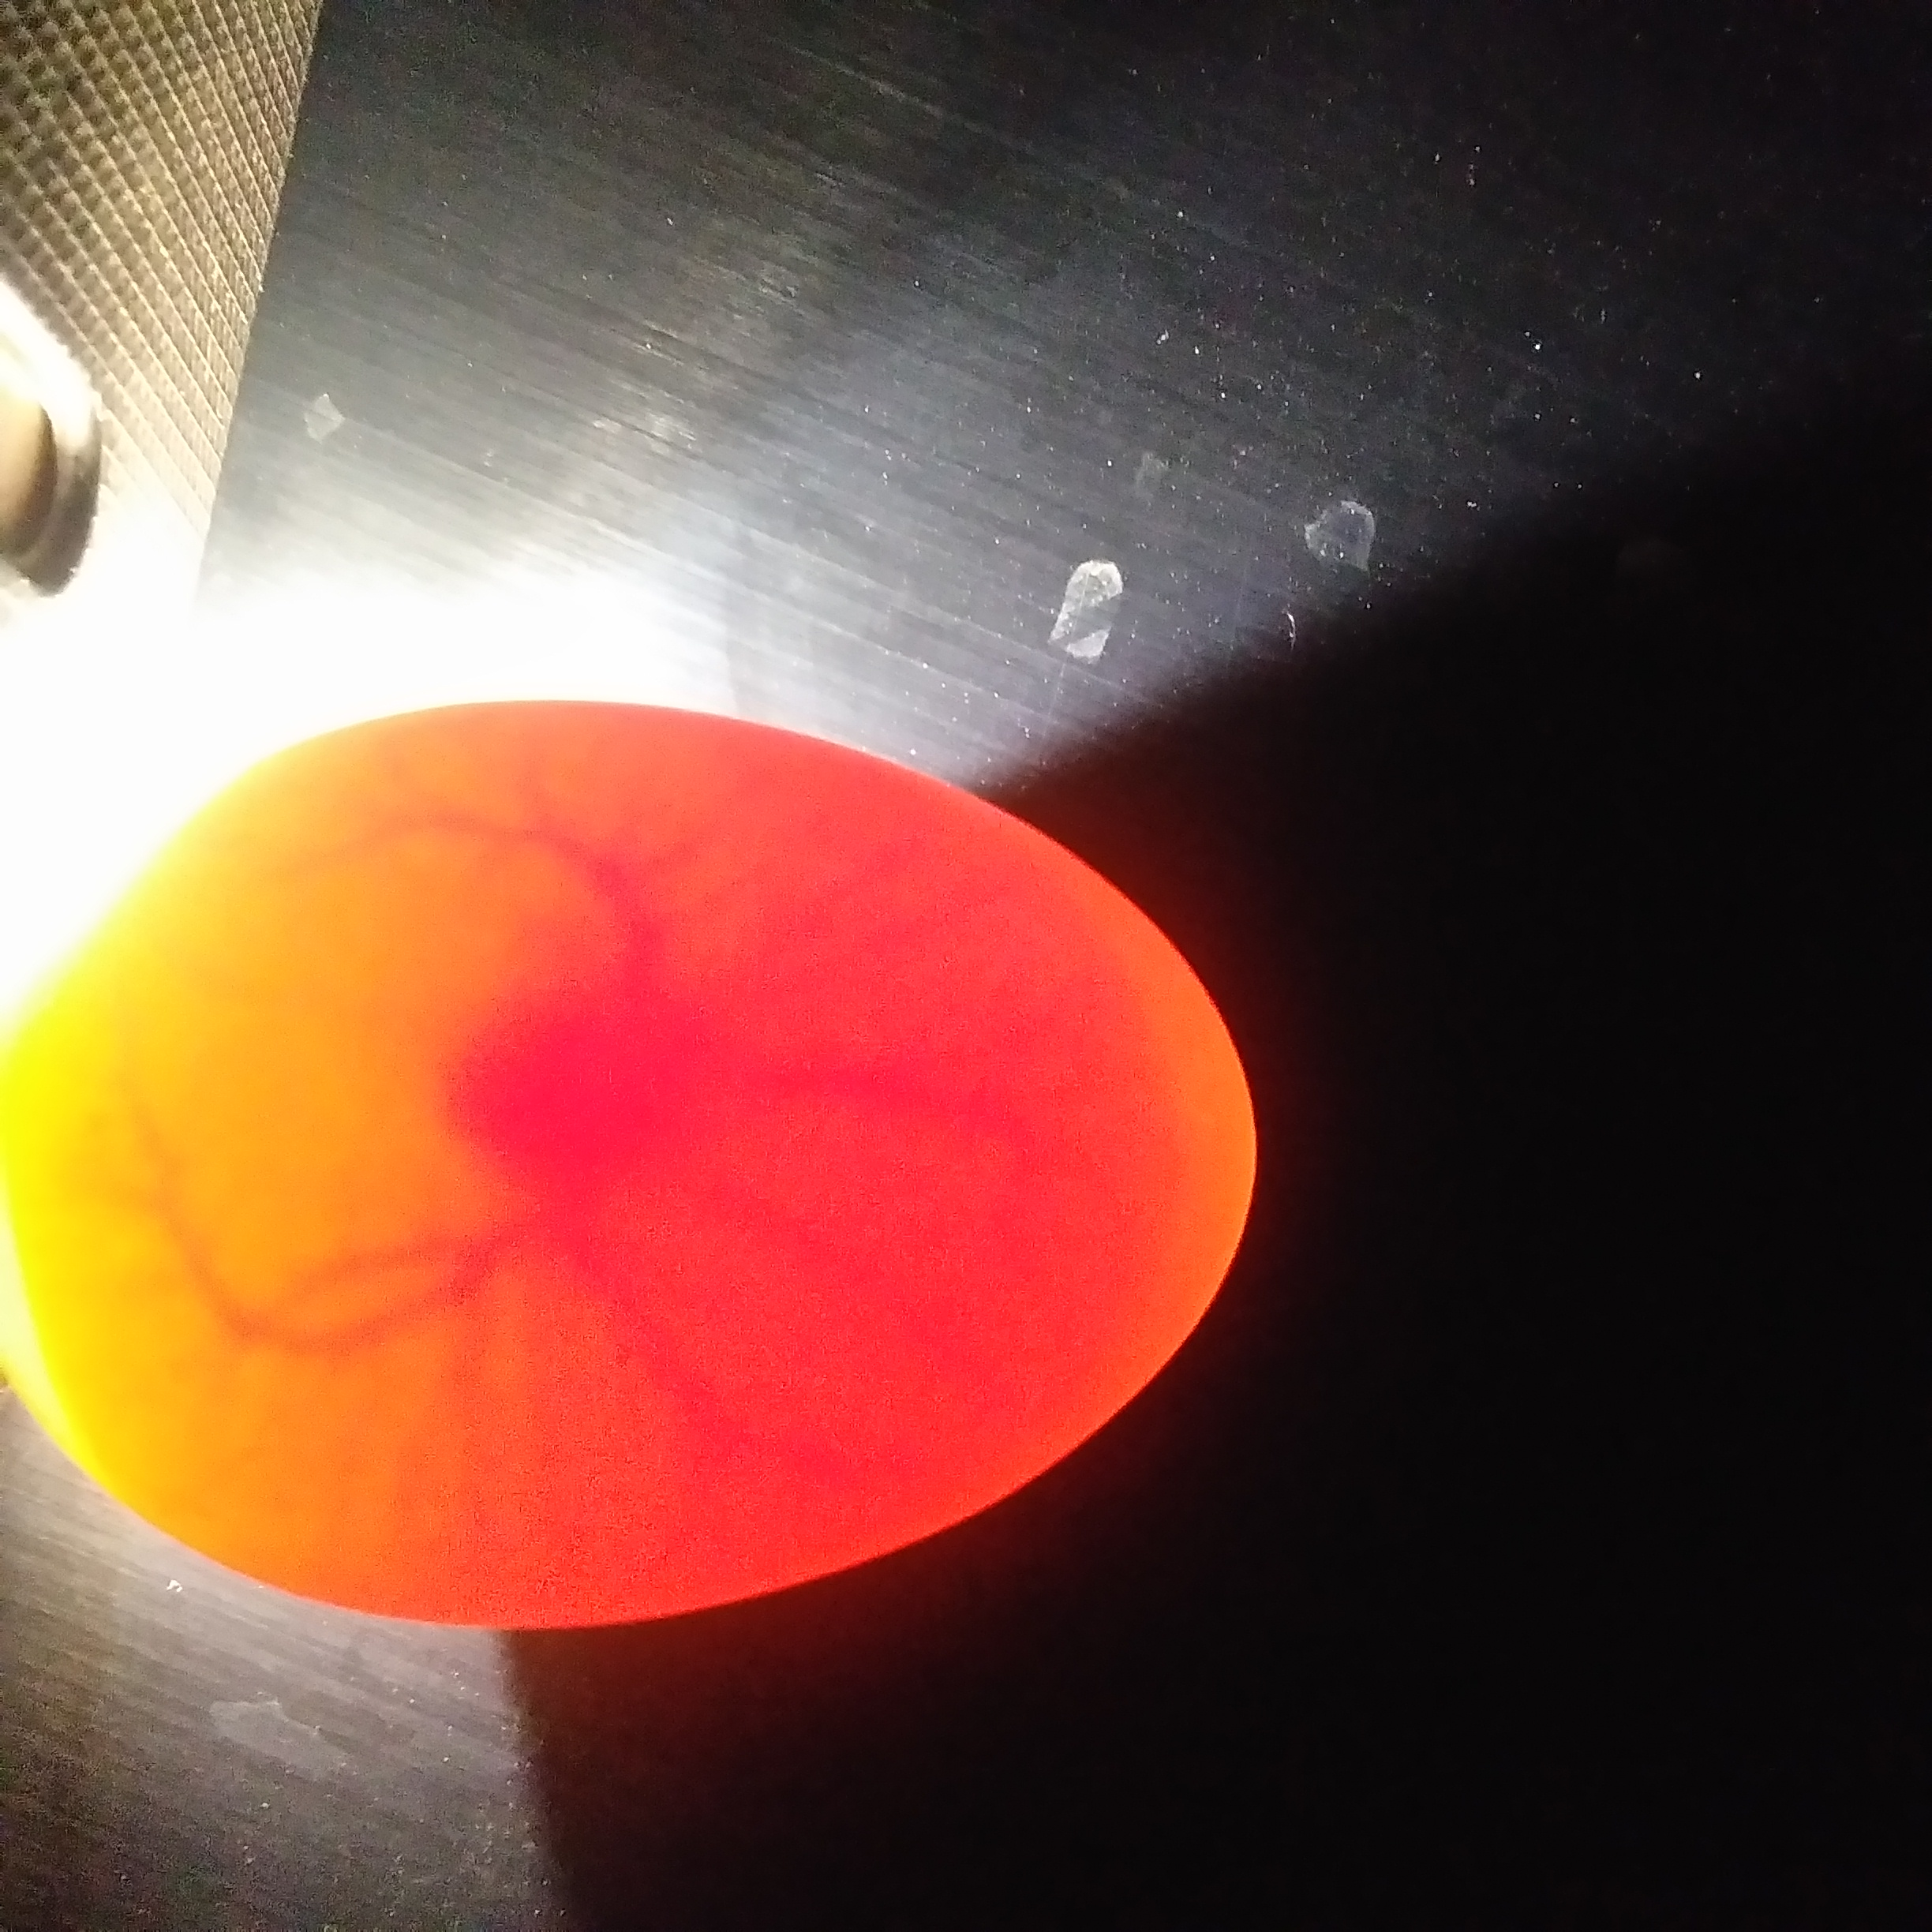bloodcell: (69, 1046, 400, 1463), (295, 754, 768, 947)
embryo: (425, 991, 688, 1207)
